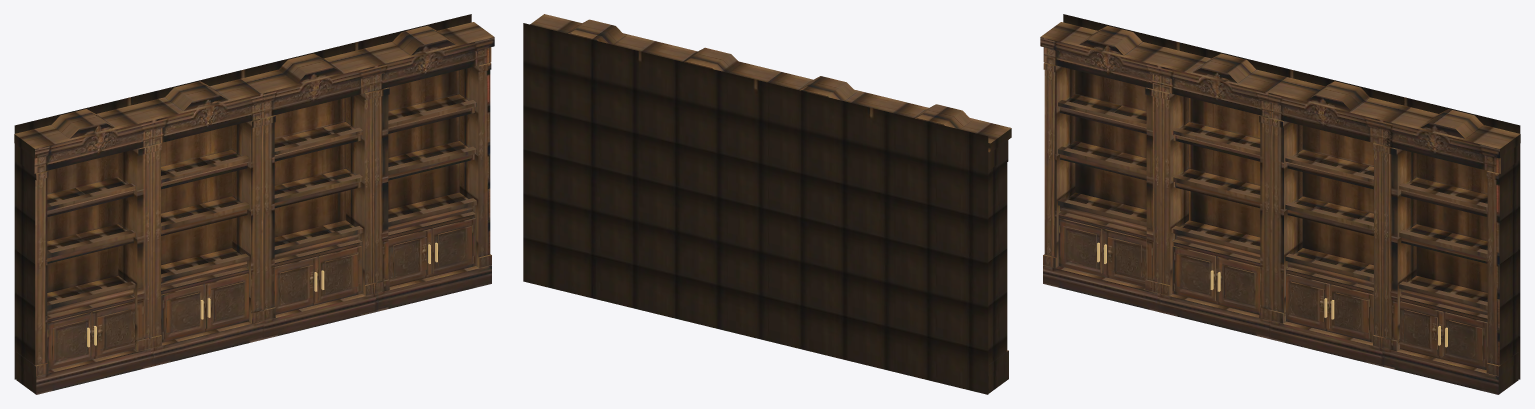
Rendered from cases.glb.
3 views of the same model, side by side, from view 1: azimuth 30°, elevation 25°; view 2: azimuth 150°, elevation 25°; view 3: azimuth 330°, elevation 25° (orthographic).
Visible parts, largest first — view 1: case_0, case_3, case_1, case_2; view 2: case_0, case_2, case_1, case_3; view 3: case_3, case_0, case_2, case_1.
Part boxes in pixels (x1,y1,x2,y2): case_0: [14, 97, 153, 394]; case_3: [355, 14, 494, 311]; case_1: [128, 69, 266, 366]; case_2: [244, 42, 380, 339]; case_0: [870, 100, 1011, 394]; case_2: [639, 42, 775, 338]; case_1: [754, 70, 895, 365]; case_3: [523, 14, 659, 309]; case_3: [1383, 97, 1520, 394]; case_0: [1040, 14, 1179, 311]; case_2: [1267, 70, 1406, 366]; case_1: [1157, 42, 1292, 339].
Bounding box in the file's own units: 7.79 × 4.12 × 0.6397.
1 material, 1 textured.
